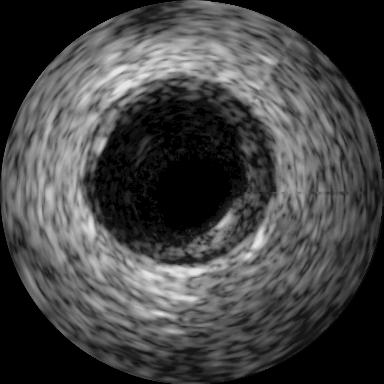Lumen: (149, 150, 231, 234)
